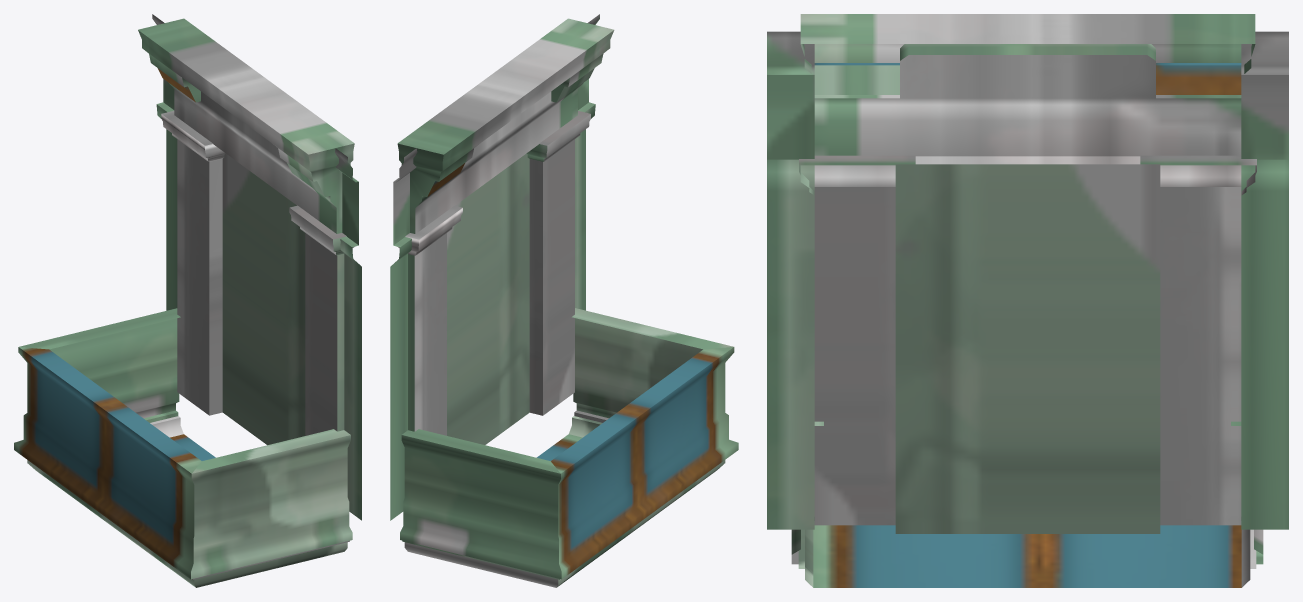
Rendered from qVin_Buld2_F2Window_Right.fbx.
3 renders of one model, left to right at view 1: azimuth 30°, elevation 25°; view 2: azimuth 150°, elevation 25°; view 3: azimuth 270°, elevation 25°, orthographic. The views are drawn at different scales.
Parts seen in each view (by area): view 1: qVin_Buld2_F2Window_Right; view 2: qVin_Buld2_F2Window_Right; view 3: qVin_Buld2_F2Window_Right.
Part boxes in pixels (box(x1,y1,x2,y2)): qVin_Buld2_F2Window_Right: box(14, 14, 361, 587); qVin_Buld2_F2Window_Right: box(390, 14, 738, 587); qVin_Buld2_F2Window_Right: box(767, 14, 1288, 587).
Size of the model in its own units: 149 by 347 by 300.
1 material, 1 textured.
